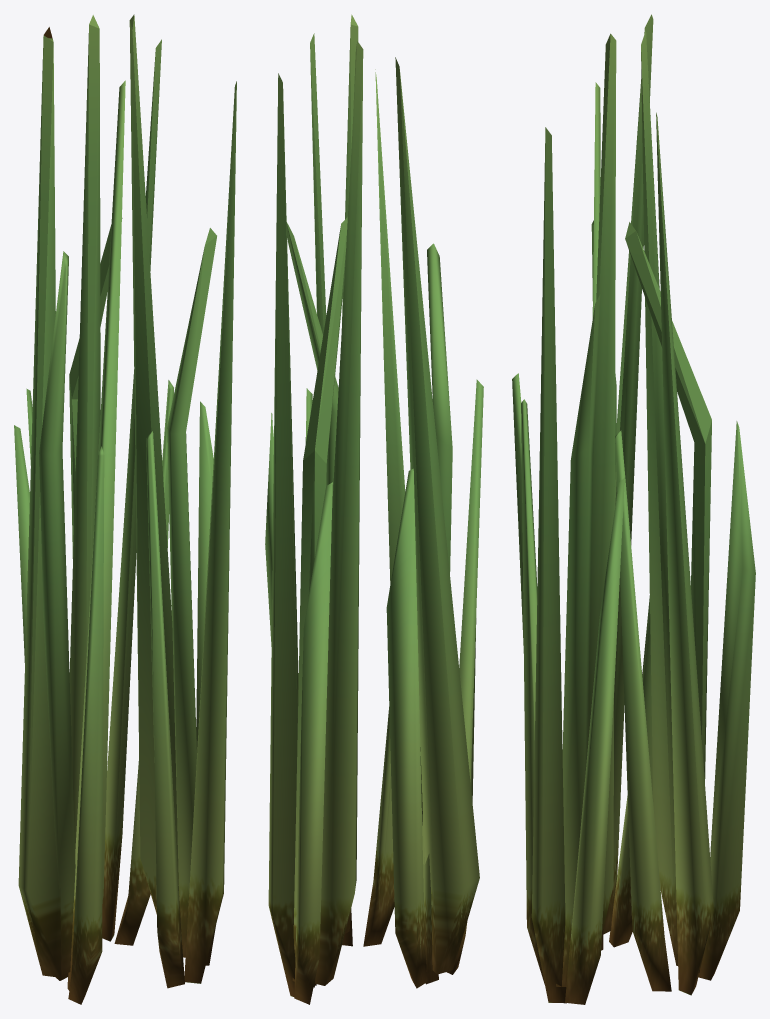
The model's file is grass_bundle.glb.
3 views of the same model, side by side, from view 1: azimuth 30°, elevation 25°; view 2: azimuth 150°, elevation 25°; view 3: azimuth 270°, elevation 25° (orthographic).
Visible parts, largest first — view 1: GrassBundle; view 2: GrassBundle; view 3: GrassBundle.
Part boxes in pixels (x1,y1,x2,y2): GrassBundle: (14,14,236,1004); GrassBundle: (265,14,483,1004); GrassBundle: (512,14,755,1004).
Size of what is drawn, in the model's own units: 8.08 by 35.56 by 8.25.
1 material, 1 textured.
